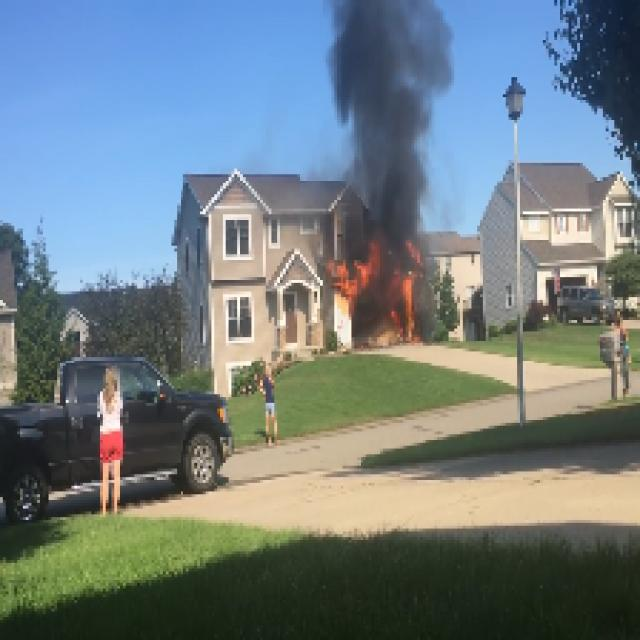smoke: (341, 3, 429, 208)
